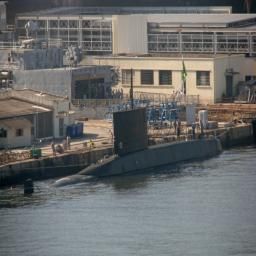submarine: (25, 107, 224, 197)
